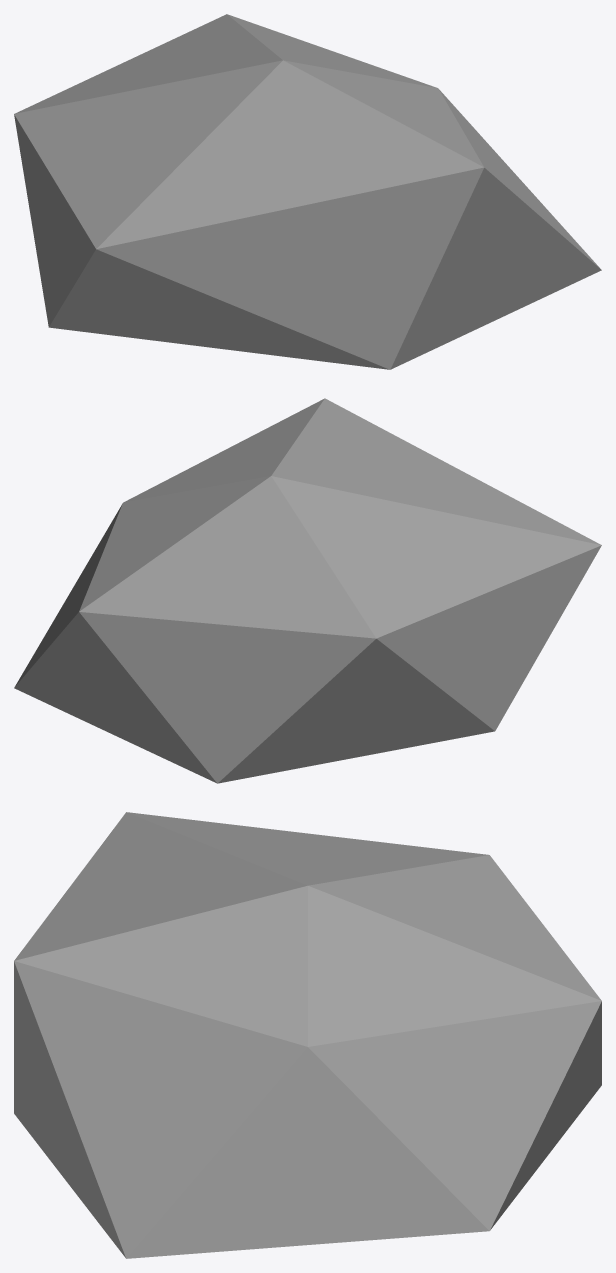
The model's file is Rock2.fbx.
The picture shows the model from 3 angles, top to bottom: view 1: azimuth 30°, elevation 25°; view 2: azimuth 150°, elevation 25°; view 3: azimuth 270°, elevation 25°; orthographic projection. The views are drawn at different scales.
Visible parts, largest first — view 1: Icosphere; view 2: Icosphere; view 3: Icosphere.
Part boxes in pixels (x1,y1,x2,y2): Icosphere: (14,14,601,369); Icosphere: (14,398,601,783); Icosphere: (14,812,601,1258).
Bounding box in the file's own units: 193 × 80.68 × 170.
